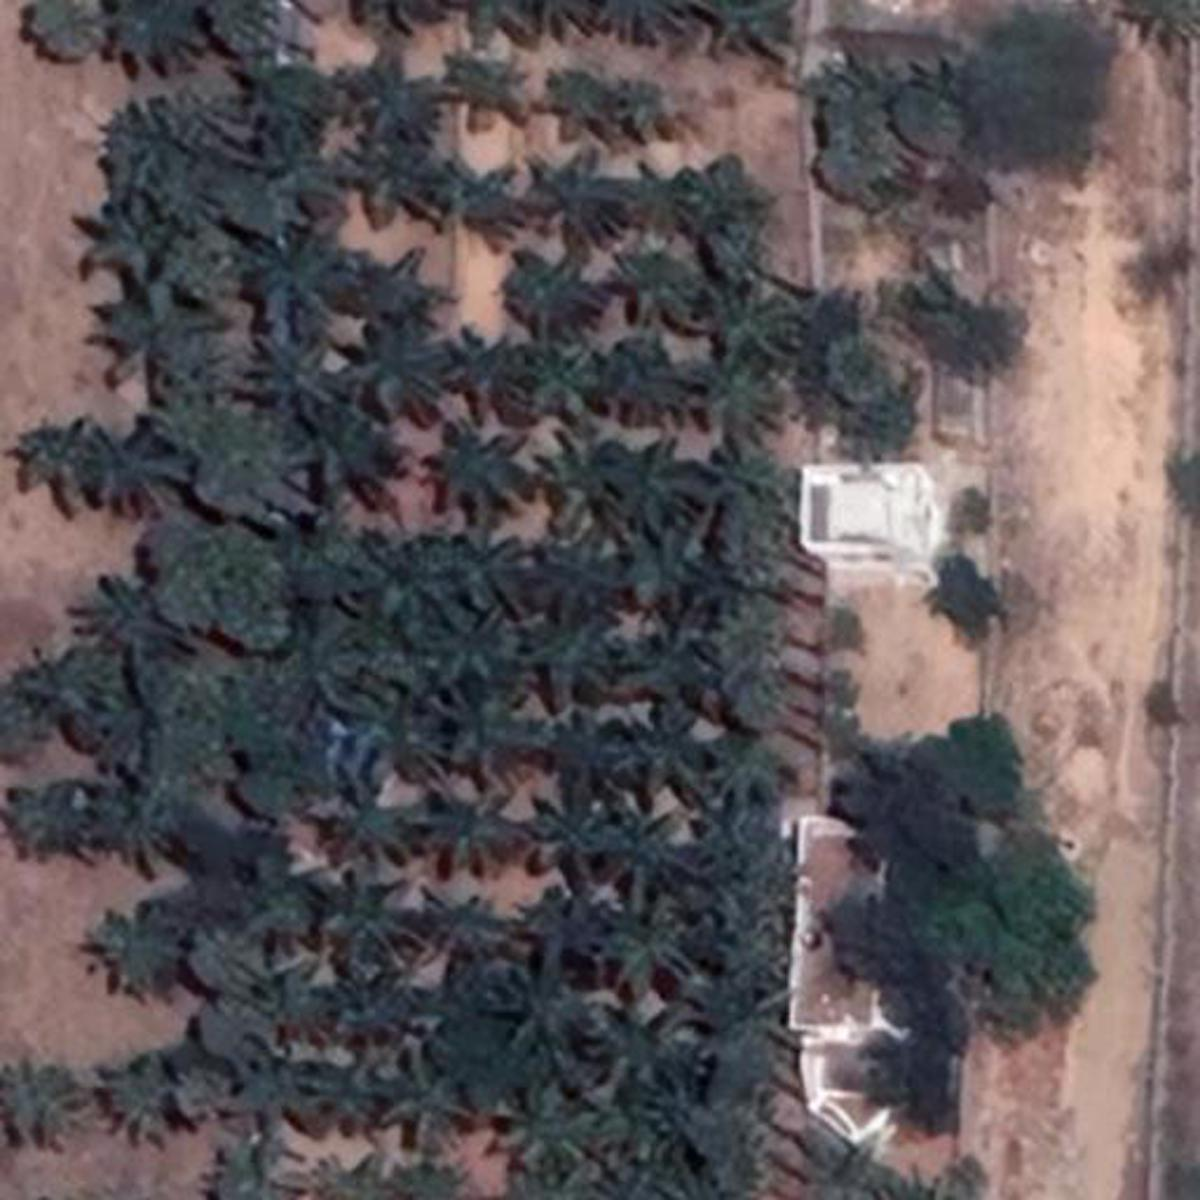coconut: (84, 288, 227, 391), (412, 419, 534, 532), (520, 419, 638, 529), (332, 321, 459, 419), (96, 103, 215, 205), (349, 44, 457, 154), (515, 138, 627, 241), (274, 597, 373, 710), (338, 135, 452, 232), (79, 182, 189, 281), (614, 241, 731, 330), (330, 251, 468, 325), (611, 419, 698, 536), (543, 703, 646, 801), (496, 253, 609, 342), (440, 147, 538, 246), (14, 637, 110, 740), (675, 154, 778, 248), (632, 705, 733, 801), (241, 248, 344, 342), (246, 325, 337, 431), (351, 532, 451, 627), (100, 909, 192, 1010), (241, 124, 335, 222), (290, 414, 391, 505), (505, 965, 600, 1062), (592, 346, 705, 426), (421, 787, 525, 874), (314, 876, 412, 967), (696, 353, 796, 442), (86, 569, 178, 660), (604, 909, 693, 1003), (4, 1054, 91, 1148), (14, 416, 105, 505), (451, 536, 546, 621), (98, 424, 185, 516), (501, 1089, 597, 1171), (100, 771, 175, 876), (103, 0, 213, 70), (440, 53, 534, 133), (534, 796, 614, 888), (527, 630, 623, 705), (597, 815, 693, 890), (440, 705, 546, 773), (295, 1052, 382, 1132), (318, 795, 414, 867), (107, 1059, 187, 1146), (7, 787, 93, 867), (382, 1071, 471, 1148), (431, 892, 505, 982), (618, 627, 712, 698), (442, 335, 525, 412), (536, 549, 630, 618), (700, 445, 773, 529), (543, 70, 621, 140), (724, 297, 816, 353), (297, 1146, 391, 1200), (527, 335, 592, 412), (438, 627, 515, 689), (215, 1141, 292, 1200)
